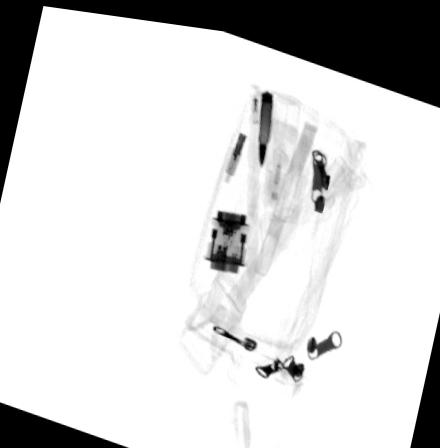Bullet: (256, 82, 273, 163)
